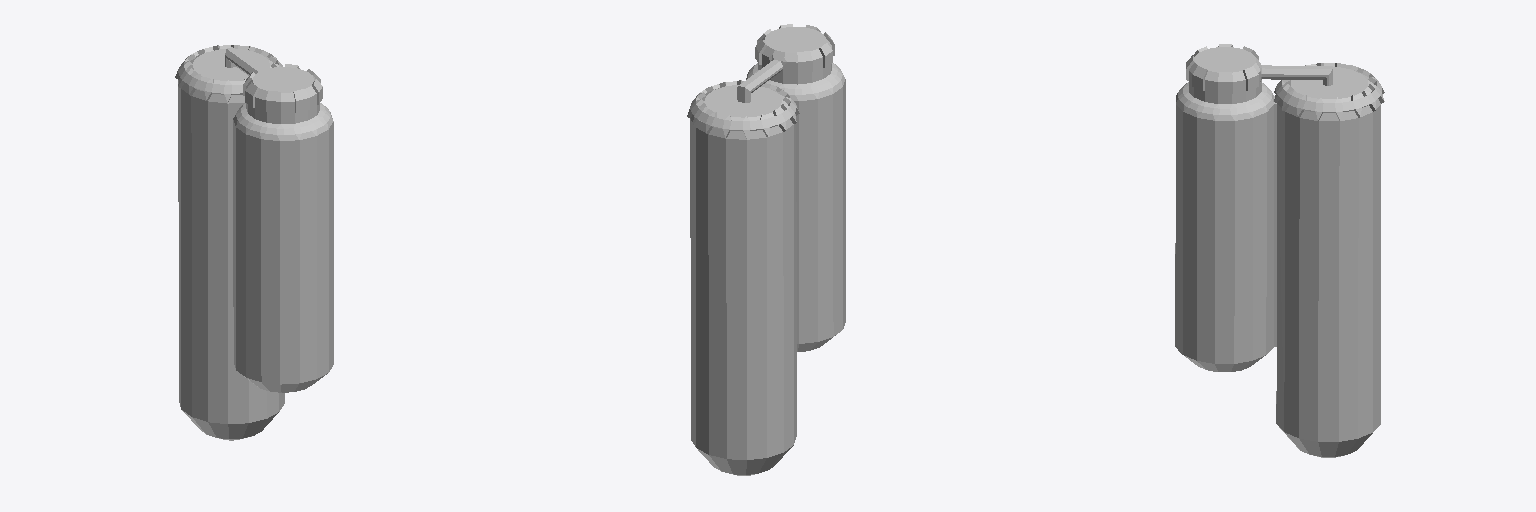
File: Insert[Name]HereOxygenTank.obj
The picture shows the model from 3 angles: view 1: azimuth 30°, elevation 25°; view 2: azimuth 150°, elevation 25°; view 3: azimuth 270°, elevation 25°; orthographic projection.
Visible parts, largest first — view 1: Cylinder; view 2: Cylinder; view 3: Cylinder.
Part boxes in pixels (bbox=[...]): Cylinder: bbox=[175, 45, 333, 440]; Cylinder: bbox=[687, 24, 845, 475]; Cylinder: bbox=[1175, 44, 1384, 457].
Size of the model in its own units: 1.81 by 7.11 by 3.41.